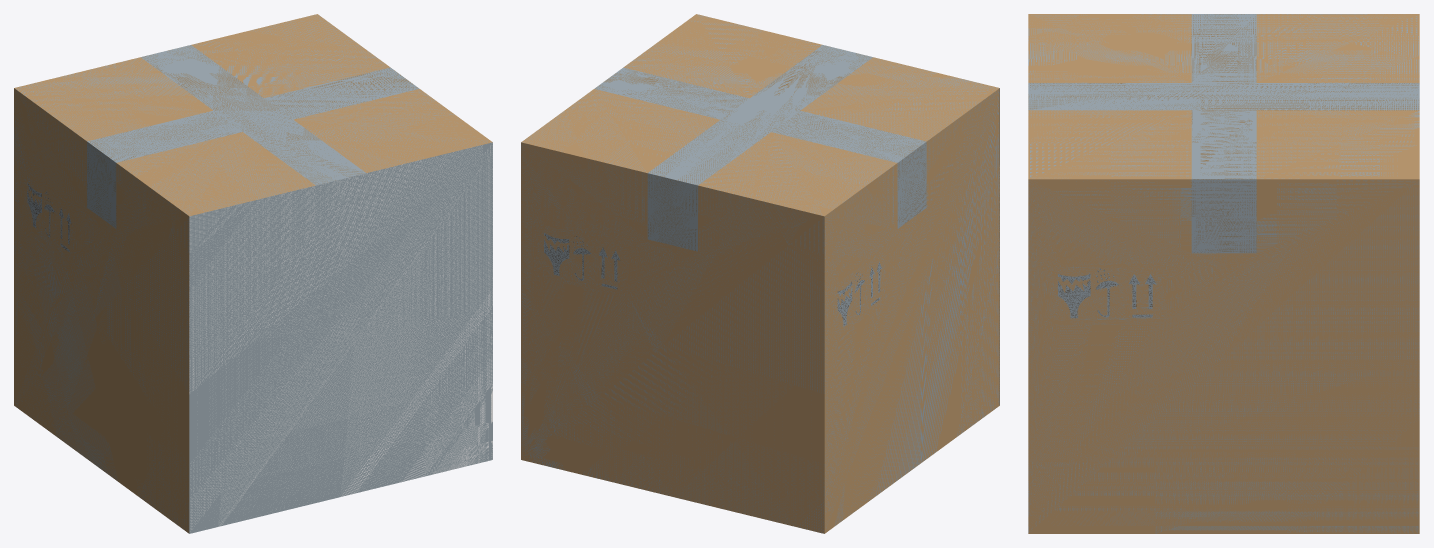
File: closed_cardboard_box.fbx
The picture shows the model from 3 angles, left to right: view 1: azimuth 30°, elevation 25°; view 2: azimuth 150°, elevation 25°; view 3: azimuth 270°, elevation 25°; orthographic projection. The views are drawn at different scales.
Parts seen in each view (by area): view 1: Model, Box_Side4; view 2: Box_Side1, Box_Side4, Model; view 3: Box_Side2, Model.
Part boxes in pixels (bbox=[...]): Model: bbox=[14, 14, 492, 533]; Box_Side4: bbox=[14, 88, 189, 533]; Box_Side1: bbox=[521, 142, 824, 533]; Box_Side4: bbox=[824, 88, 999, 533]; Model: bbox=[521, 14, 999, 405]; Box_Side2: bbox=[1028, 179, 1419, 533]; Model: bbox=[1028, 14, 1419, 179].
Size of the model in its own units: 60.96 by 60.96 by 61.
